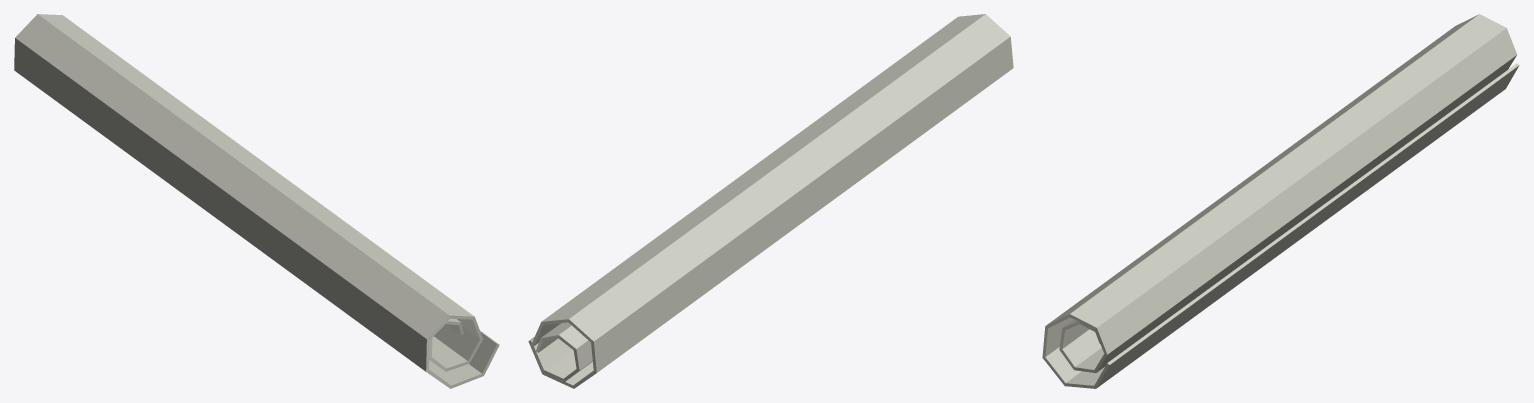
File: Scroll.fbx
3 views of the same model, side by side, from view 1: azimuth 30°, elevation 25°; view 2: azimuth 150°, elevation 25°; view 3: azimuth 330°, elevation 25° (orthographic).
Parts seen in each view (by area): view 1: Scroll; view 2: Scroll; view 3: Scroll.
Boxes of the visible parts, left/top/right/bottom form: Scroll: left=14, top=14, right=499, bottom=388; Scroll: left=528, top=14, right=1013, bottom=388; Scroll: left=1042, top=14, right=1519, bottom=388.
Bounding box in the file's own units: 11.11 × 10.63 × 116.
1 material, 1 textured.
